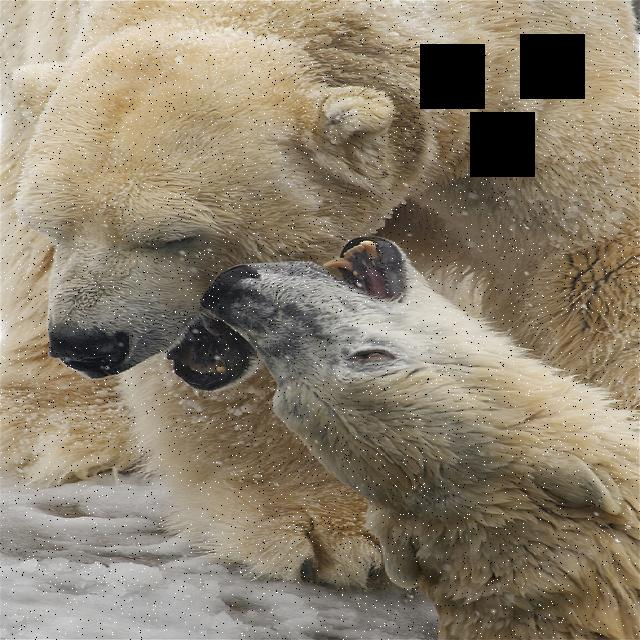Bear: (1, 0, 640, 583), (198, 217, 640, 640)
